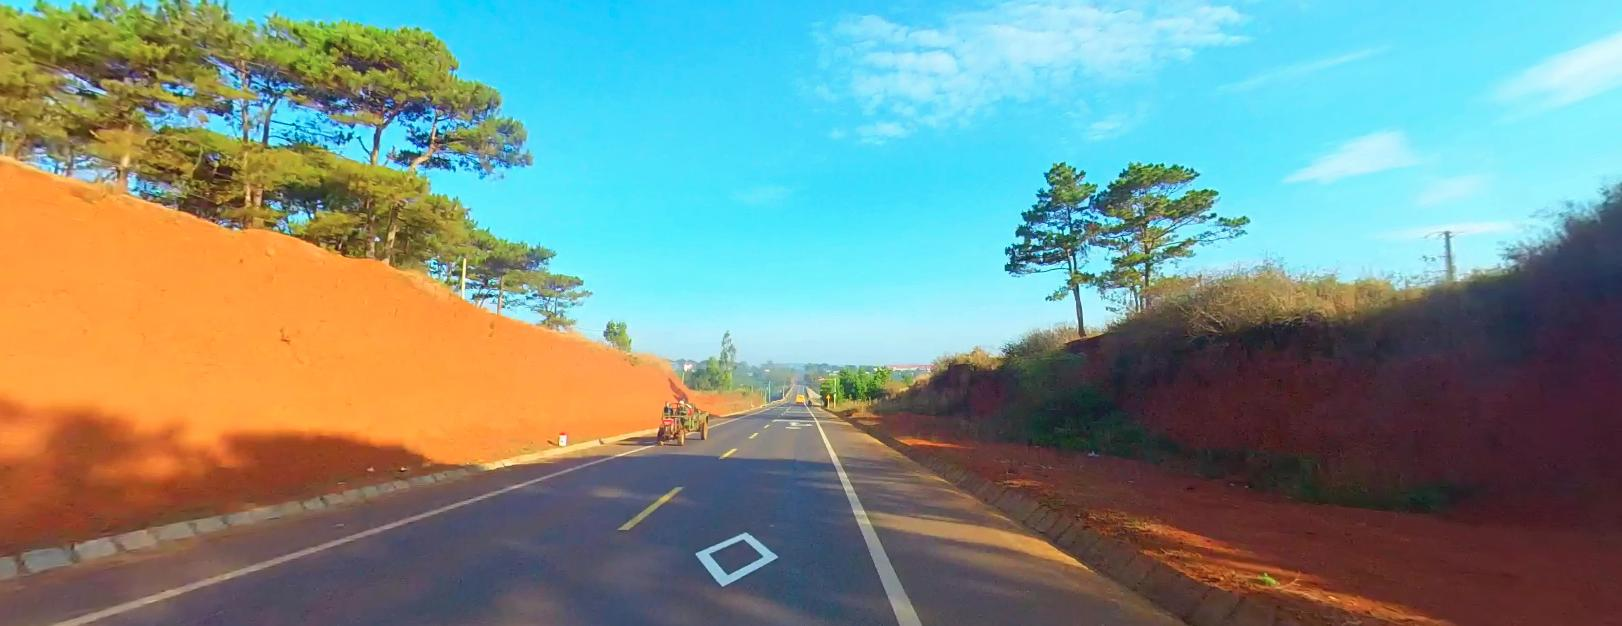Nguy hiem: (825, 392, 830, 396)
